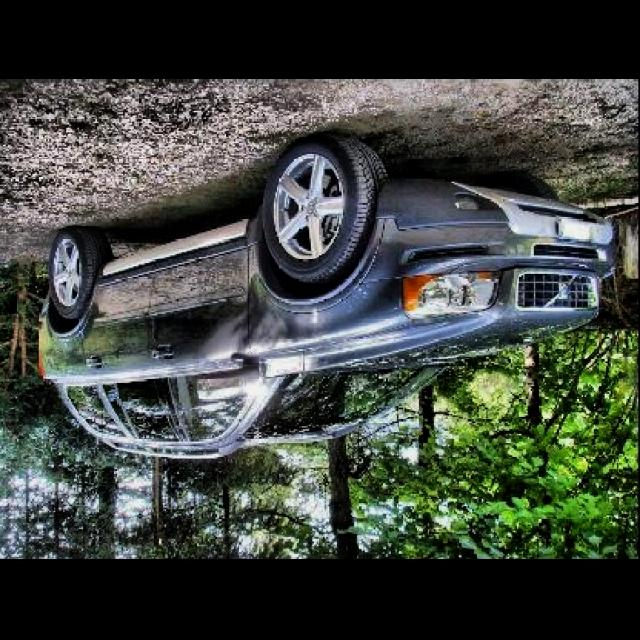black: (13, 184, 624, 445)
